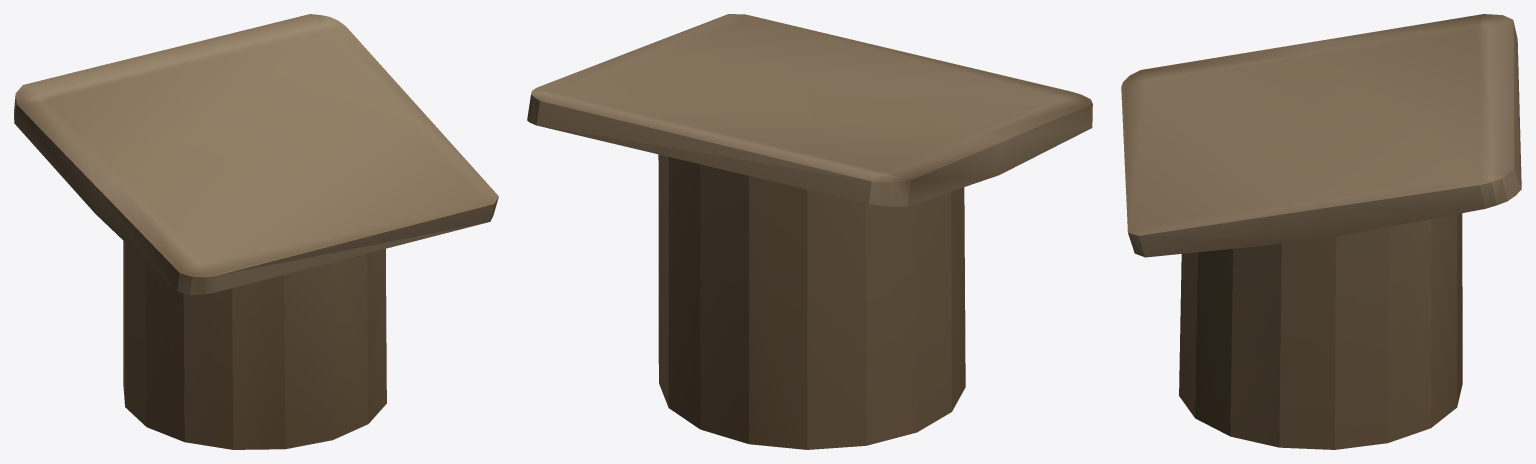
Rendered from agalmatolite_seal_0b0240b8.glb.
3 renders of one model, left to right at view 1: azimuth 30°, elevation 25°; view 2: azimuth 150°, elevation 25°; view 3: azimuth 270°, elevation 25°, orthographic. The views are drawn at different scales.
Visible parts, largest first — view 1: SM_24ST0001_low_SM_24ST0001_low_0; view 2: SM_24ST0001_low_SM_24ST0001_low_0; view 3: SM_24ST0001_low_SM_24ST0001_low_0.
Part boxes in pixels (x1,y1,x2,y2): SM_24ST0001_low_SM_24ST0001_low_0: (14, 14, 498, 449); SM_24ST0001_low_SM_24ST0001_low_0: (527, 14, 1092, 449); SM_24ST0001_low_SM_24ST0001_low_0: (1121, 14, 1521, 449).
Bounding box in the file's own units: 0.5664 × 0.4596 × 0.5624.
